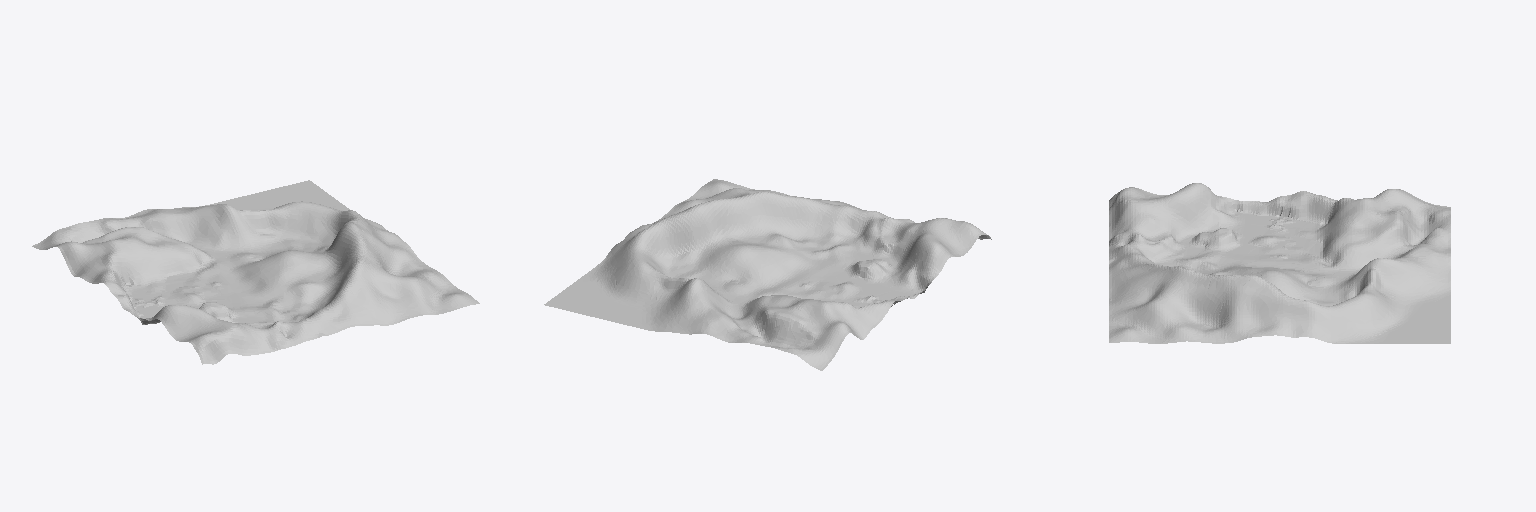
The model's file is a1 terr omj.obj.
3 views of the same model, side by side, from view 1: azimuth 30°, elevation 25°; view 2: azimuth 150°, elevation 25°; view 3: azimuth 270°, elevation 25° (orthographic).
Visible parts, largest first — view 1: default; view 2: default; view 3: default.
Part boxes in pixels (bbox=[...]): default: bbox=[32, 180, 479, 364]; default: bbox=[544, 179, 991, 370]; default: bbox=[1109, 183, 1450, 343].
Bounding box in the file's own units: 800 × 113 × 850.